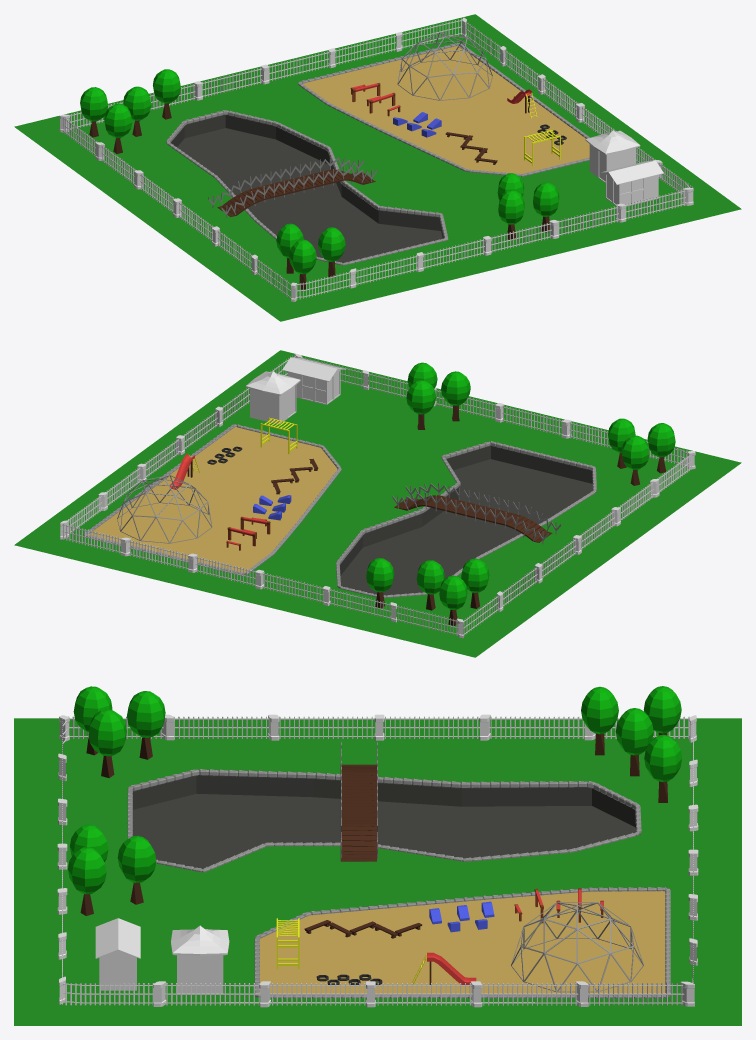
File: TickHunt_Map1.fbx
3 renders of one model, top to bottom at view 1: azimuth 30°, elevation 25°; view 2: azimuth 150°, elevation 25°; view 3: azimuth 270°, elevation 25°, orthographic. The views are drawn at different scales.
Visible parts, largest first — view 1: Ground, Walls, SmallStonesAroundShapes, Cube.002, PartridgeCabin, Cube.001, Cube.026, Icosphere, Bridge, Cube.004, Sphere.005, Sphere.001 (+7 smaller); view 2: Ground, Walls, SmallStonesAroundShapes, Cube.026, Cube.002, PartridgeCabin, Cube.001, Icosphere, Cube.004, Bridge, Sphere.007, Sphere.009 (+8 smaller); view 3: Ground, Walls, SmallStonesAroundShapes, Cube.002, Cube.001, Cube.026, Icosphere, PartridgeCabin, Sphere.002, Sphere.004, Sphere.008, Sphere.009 (+6 smaller).
Part boxes in pixels (x1,y1,x2,y2): Ground: (14, 14, 741, 321); Walls: (59, 17, 693, 301); SmallStonesAroundShapes: (166, 110, 448, 265); Cube.002: (298, 43, 589, 176); PartridgeCabin: (600, 160, 663, 206); Cube.001: (217, 169, 375, 216); Cube.026: (585, 130, 640, 182); Icosphere: (397, 32, 492, 100); Bridge: (221, 166, 376, 217); Cube.004: (208, 157, 363, 208); Sphere.005: (153, 69, 180, 103); Sphere.001: (104, 103, 132, 137); Ground: (14, 350, 741, 657); Walls: (60, 353, 695, 638); SmallStonesAroundShapes: (336, 441, 596, 597); Cube.026: (245, 371, 300, 424); Cube.002: (83, 424, 341, 574); PartridgeCabin: (282, 357, 345, 404); Cube.001: (394, 495, 552, 542); Icosphere: (117, 475, 212, 543); Cube.004: (392, 492, 548, 543); Bridge: (405, 483, 561, 534); Sphere.007: (441, 371, 470, 405); Sphere.009: (406, 380, 436, 414); Ground: (14, 718, 741, 1025); Walls: (57, 714, 698, 1007); SmallStonesAroundShapes: (127, 769, 641, 872); Cube.002: (254, 887, 670, 998); Cube.001: (340, 764, 376, 861); Cube.026: (171, 925, 229, 993); Icosphere: (511, 902, 643, 992); PartridgeCabin: (95, 918, 140, 990); Sphere.002: (88, 709, 126, 756); Sphere.004: (127, 691, 165, 737); Sphere.008: (68, 847, 106, 894); Sphere.009: (117, 835, 156, 882).
Bounding box in the file's own units: 15000 × 1973 × 15000.
10 materials, 1 textured.
